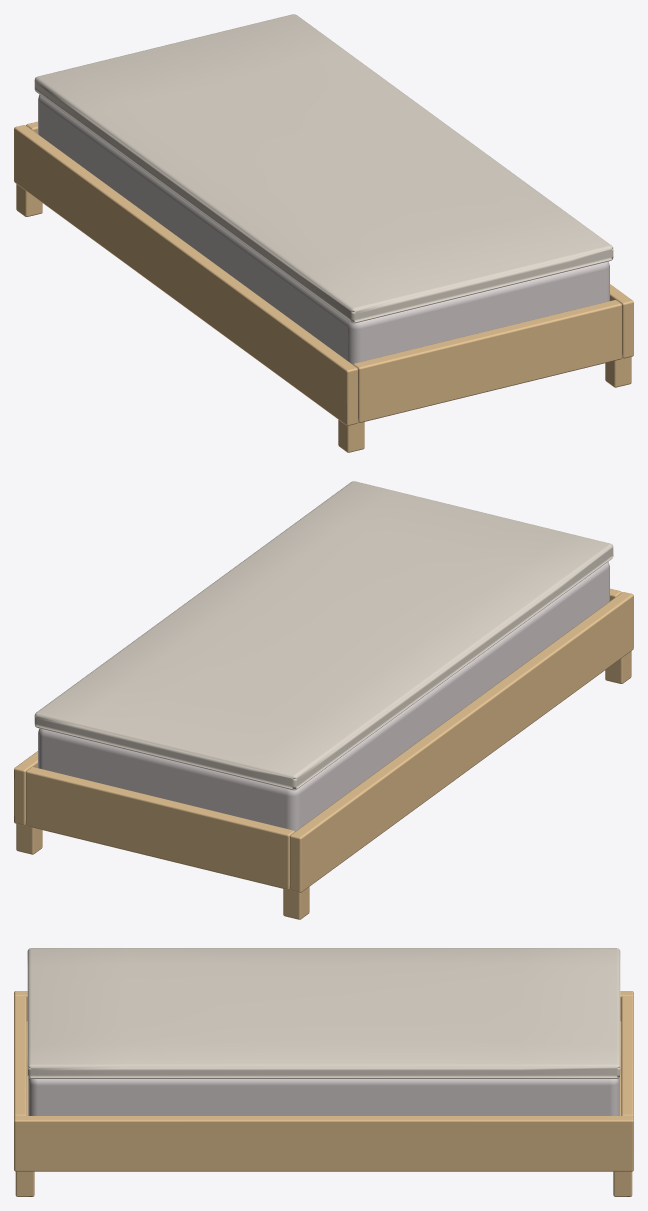
The model's file is bed_single.glb.
3 renders of one model, top to bottom at view 1: azimuth 30°, elevation 25°; view 2: azimuth 150°, elevation 25°; view 3: azimuth 270°, elevation 25°, orthographic. The views are drawn at different scales.
Visible parts, largest first — view 1: bed_single; view 2: bed_single; view 3: bed_single.
Boxes of the visible parts, x1,y1,x2,y2 form: bed_single: (14, 14, 633, 452); bed_single: (14, 481, 633, 919); bed_single: (14, 948, 633, 1196).
Bounding box in the file's own units: 0.97 × 0.45 × 1.95.
